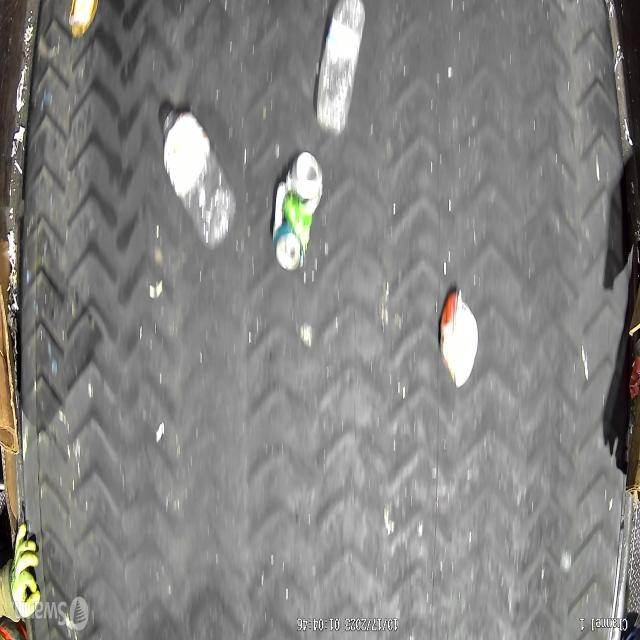can: (271, 154, 322, 272)
plastic_bottle: (160, 106, 236, 248), (314, 0, 364, 137)
